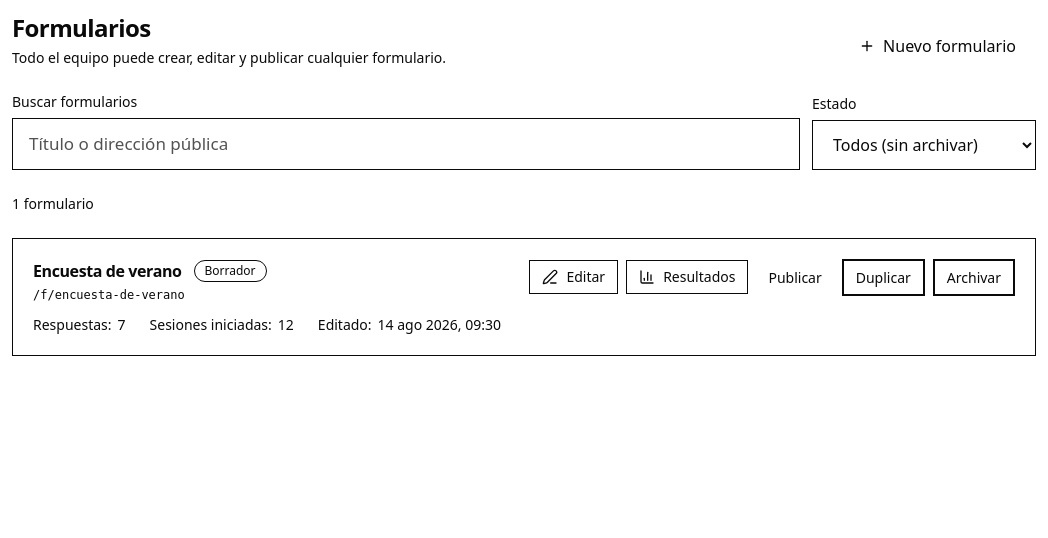
Test: ListadoFormularios · estado vacío › distingue «no hay nada» de «la búsqueda no encuentra nada»
This screenshot has width=1048, height=538.
Expected: the link "Encuesta de verano" is shown, [33, 260, 182, 282]
Type "zzz" into the search field labelled "Buscar formularios".
click(406, 144); type("zzz")  # box [12, 118, 800, 170]
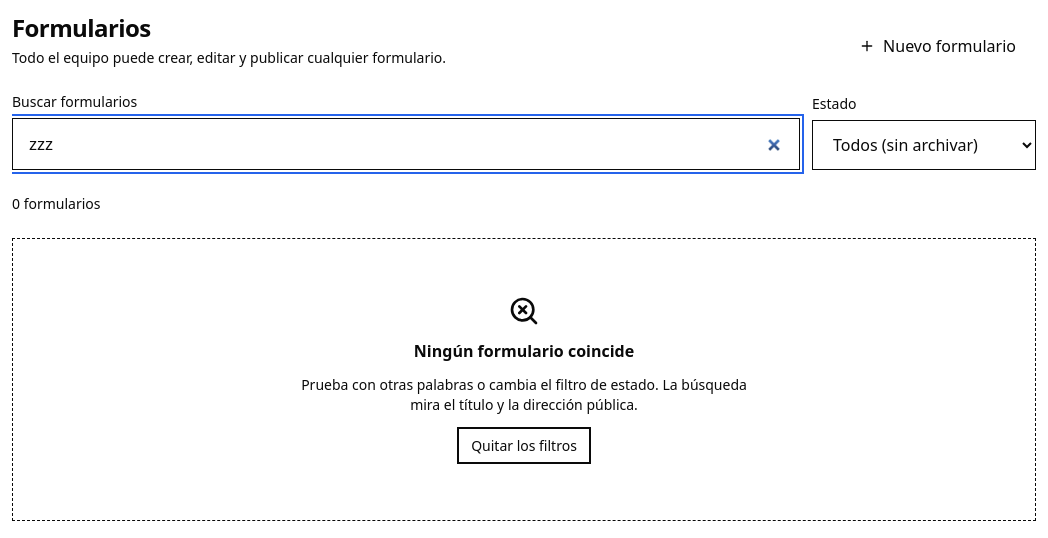
Now the heading "Ningún formulario coincide" is shown, box [414, 338, 634, 362]
# El botón de recuperación devuelve la lista completa.
Click the button "Quitar los filtros".
click(524, 445)  # box [457, 426, 591, 464]
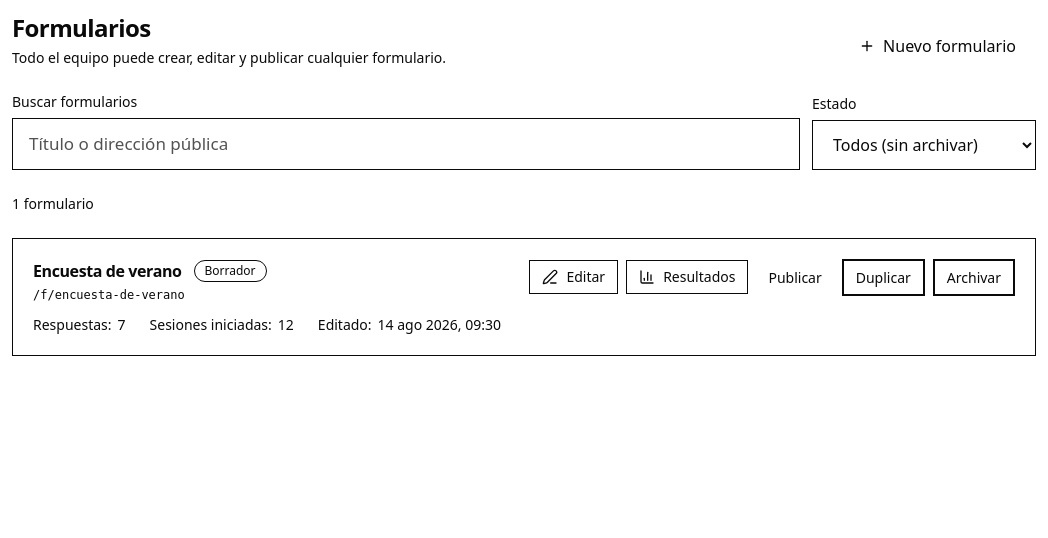
Now the link "Encuesta de verano" is shown, box [33, 260, 182, 282]
